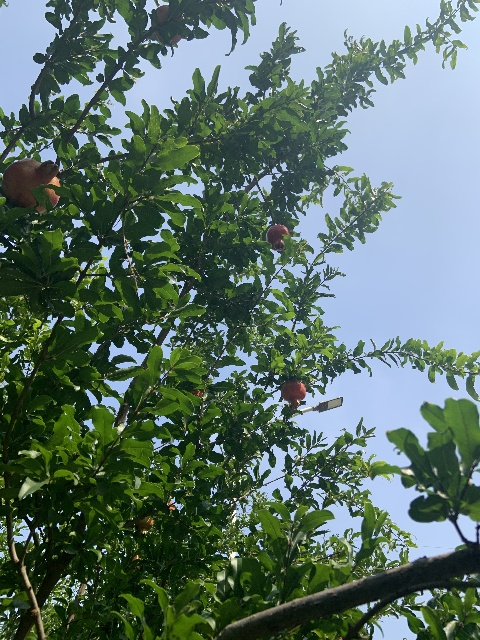ripe: (2, 157, 60, 212), (280, 380, 306, 408), (266, 224, 289, 250)
